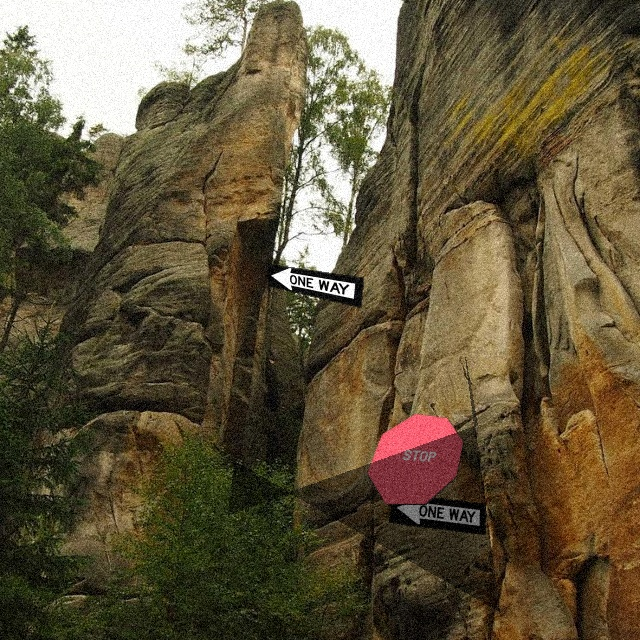ONE_WAY_ left: (266, 263, 364, 308), (388, 492, 486, 535)
STOP: (366, 413, 464, 505)
